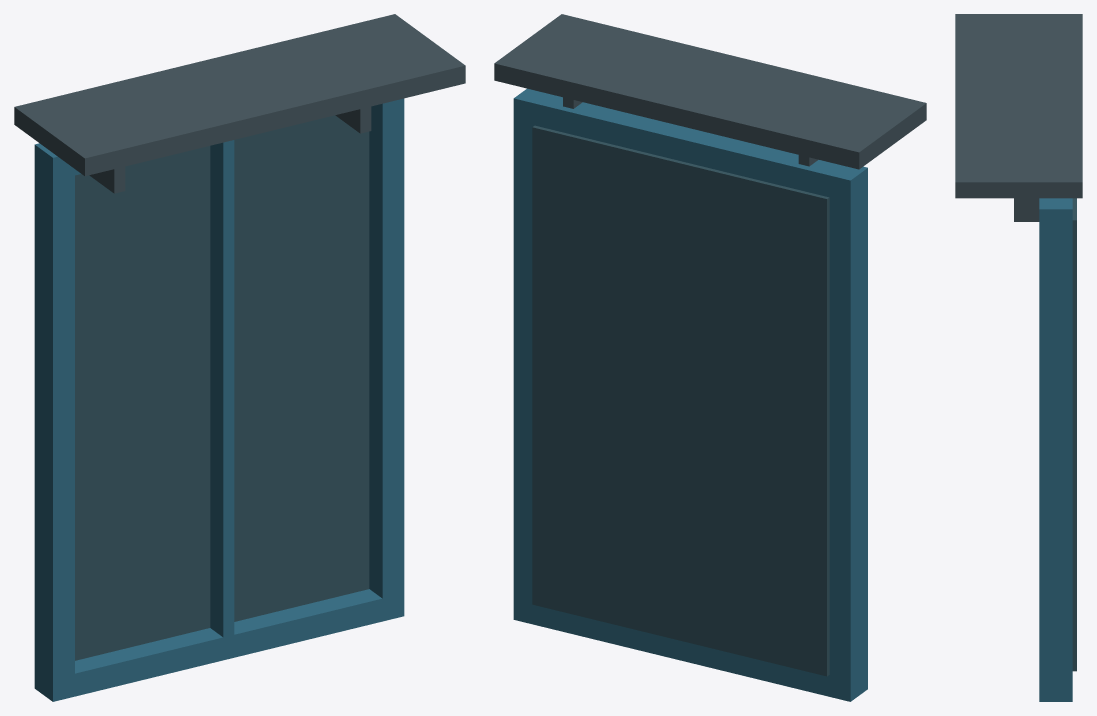
File: window_29.glb
3 views of the same model, side by side, from view 1: azimuth 30°, elevation 25°; view 2: azimuth 150°, elevation 25°; view 3: azimuth 270°, elevation 25° (orthographic). The views are drawn at different scales.
Visible parts, largest first — view 1: window_29; view 2: window_29; view 3: window_29.
Part boxes in pixels (box(x1,y1,x2,y2)): window_29: box(14, 14, 465, 701); window_29: box(494, 14, 926, 701); window_29: box(955, 14, 1082, 701).
Bounding box in the file's own units: 1.56 × 2.28 × 0.5.
